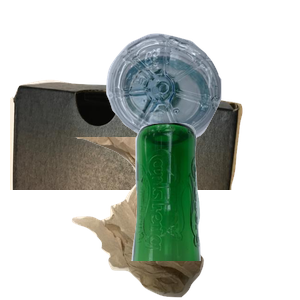cardboard: (10, 77, 245, 257)
glass: (129, 120, 300, 300)
plastic: (104, 31, 300, 168)
trash: (66, 137, 263, 300)
